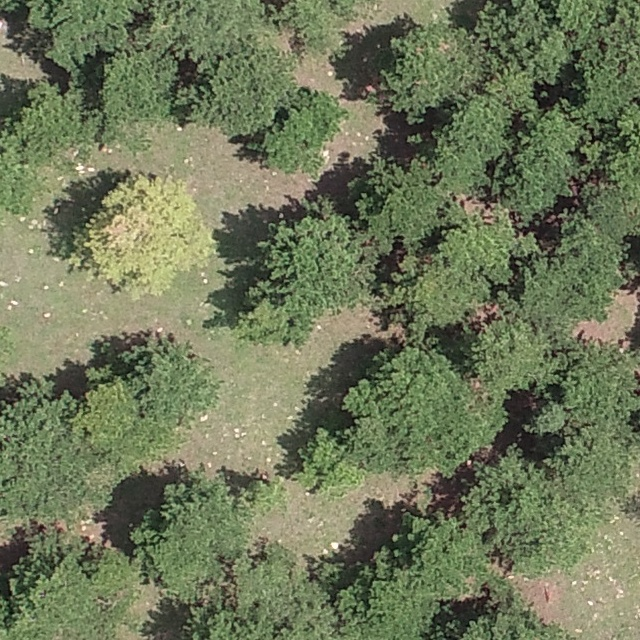unhealthy: (68, 171, 217, 299)
